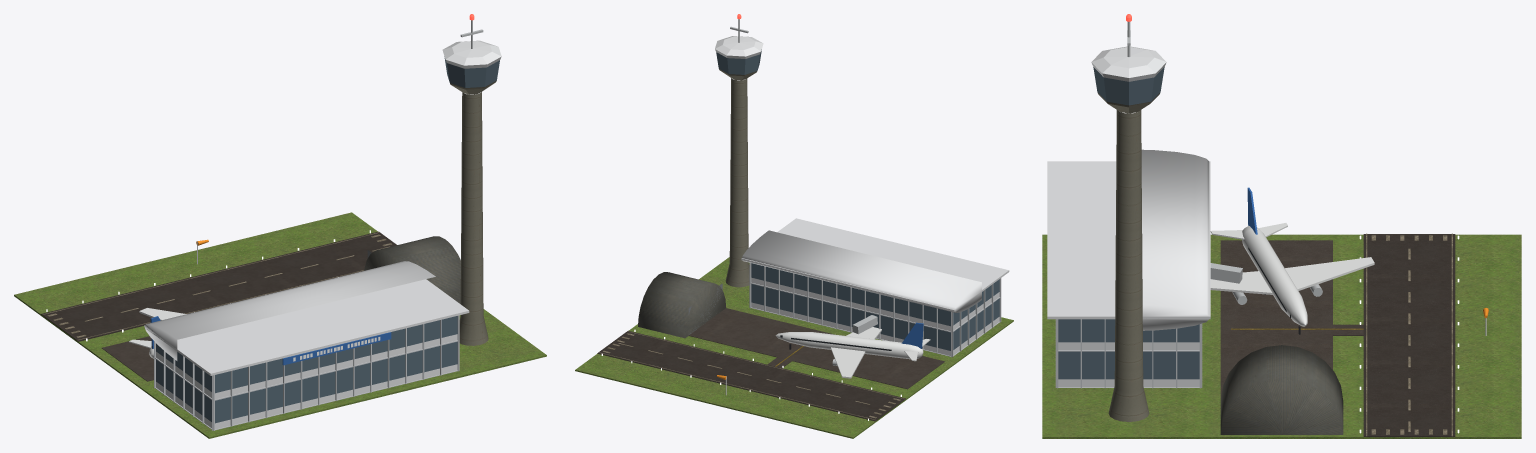
Rendered from airport.glb.
3 renders of one model, left to right at view 1: azimuth 30°, elevation 25°; view 2: azimuth 150°, elevation 25°; view 3: azimuth 270°, elevation 25°, orthographic. The views are drawn at different scales.
Visible parts, largest first — view 1: airport_body; view 2: airport_body; view 3: airport_body.
Boxes of the visible parts, box(x1,y1,x2,y2) form: airport_body: box(14, 20, 546, 438); airport_body: box(575, 19, 1013, 438); airport_body: box(1042, 21, 1521, 438).
Size of the model in its own units: 0.94 by 0.868 by 0.94.
Materials: 21 (8 with a texture image).
